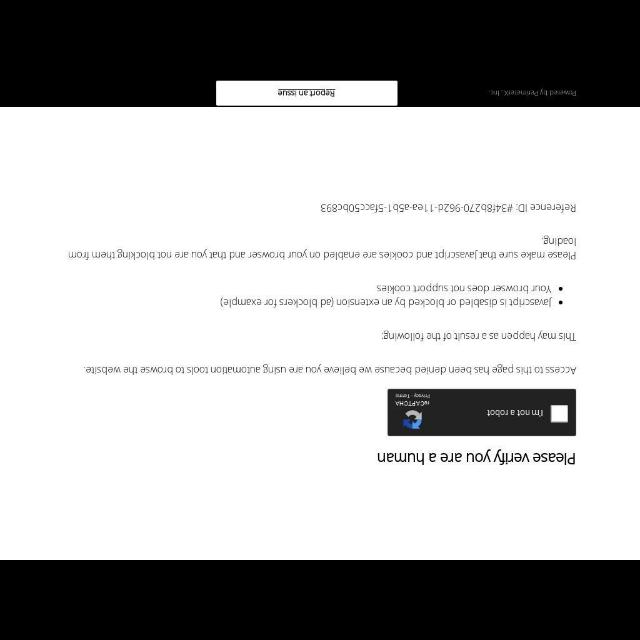checkbox: (552, 405, 568, 423)
icon: (556, 285, 566, 291), (558, 296, 562, 306)
image: (401, 409, 425, 429)
text: (70, 235, 578, 261), (84, 366, 578, 376), (220, 296, 552, 308), (319, 200, 575, 214), (376, 450, 576, 464), (378, 328, 576, 342), (374, 284, 550, 292), (490, 89, 576, 97), (484, 408, 546, 418), (392, 392, 430, 406), (278, 88, 336, 96)
textbutton: (214, 80, 398, 106)
